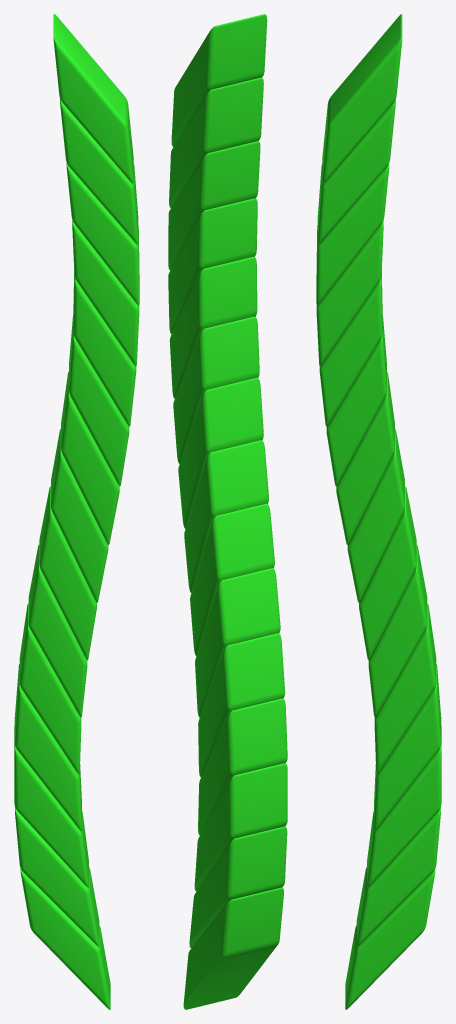
Rendered from alif.fbx.
3 renders of one model, left to right at view 1: azimuth 90°, elevation 25°; view 2: azimuth 210°, elevation 25°; view 3: azimuth 270°, elevation 25°, orthographic. The views are drawn at different scales.
Visible parts, largest first — view 1: Cube; view 2: Cube; view 3: Cube.
Part boxes in pixels (box(x1,y1,x2,y2)): Cube: box(14, 14, 139, 1009); Cube: box(168, 14, 287, 1009); Cube: box(316, 14, 441, 1009).
Size of the model in its own units: 50 by 821 by 95.78.
